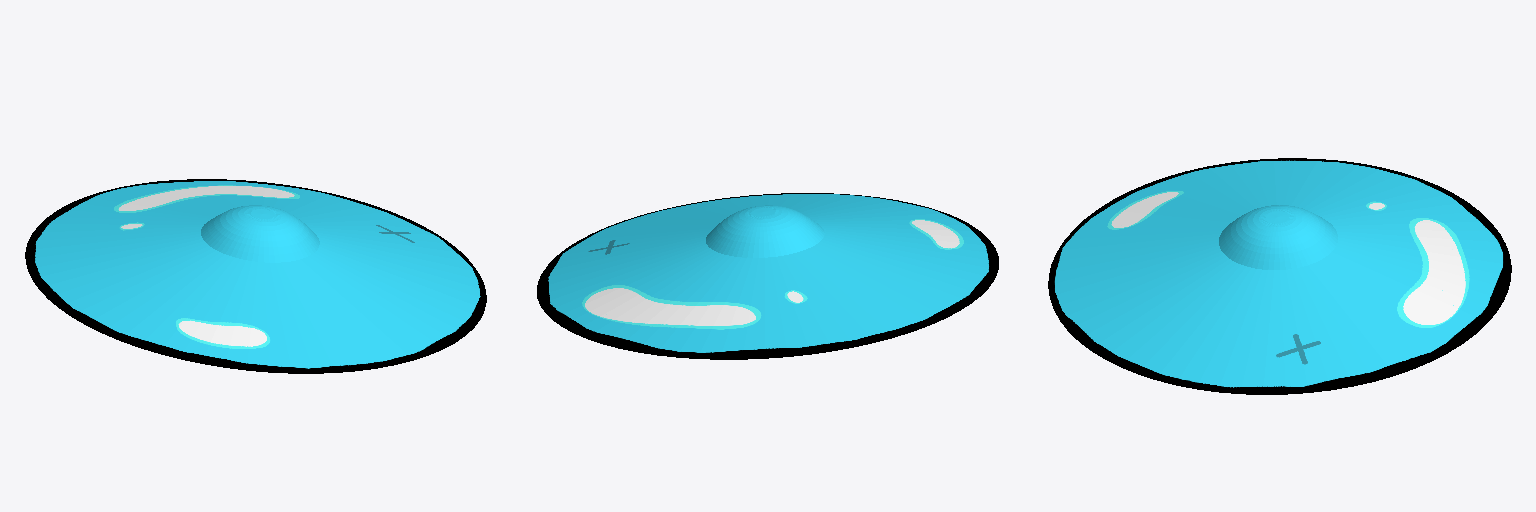
3 renders of one model, left to right at view 1: azimuth 30°, elevation 25°; view 2: azimuth 150°, elevation 25°; view 3: azimuth 270°, elevation 25°, orthographic.
Visible parts, largest first — view 1: drumsetV4_CrashSymbal_Cylinder.024; view 2: drumsetV4_CrashSymbal_Cylinder.024; view 3: drumsetV4_CrashSymbal_Cylinder.024.
Boxes of the visible parts, <box> form: drumsetV4_CrashSymbal_Cylinder.024: <box>25,179,486,373</box>; drumsetV4_CrashSymbal_Cylinder.024: <box>537,193,998,359</box>; drumsetV4_CrashSymbal_Cylinder.024: <box>1048,158,1511,394</box>.
Size of the model in its own units: 1.26 by 0.2568 by 1.27.
1 materials, 1 textured.